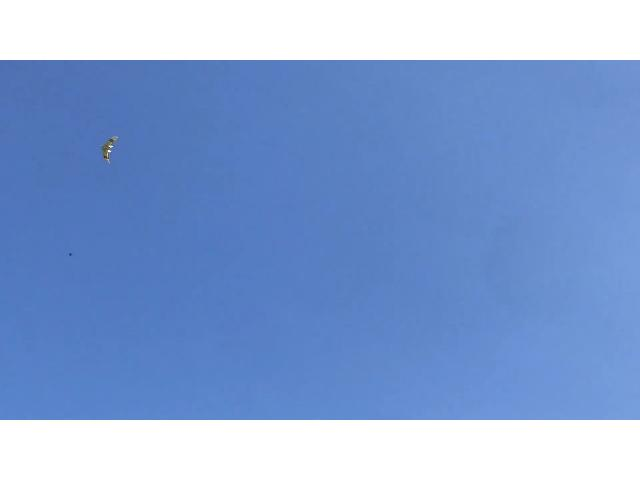Anti-Drone: (89, 126, 131, 168)
